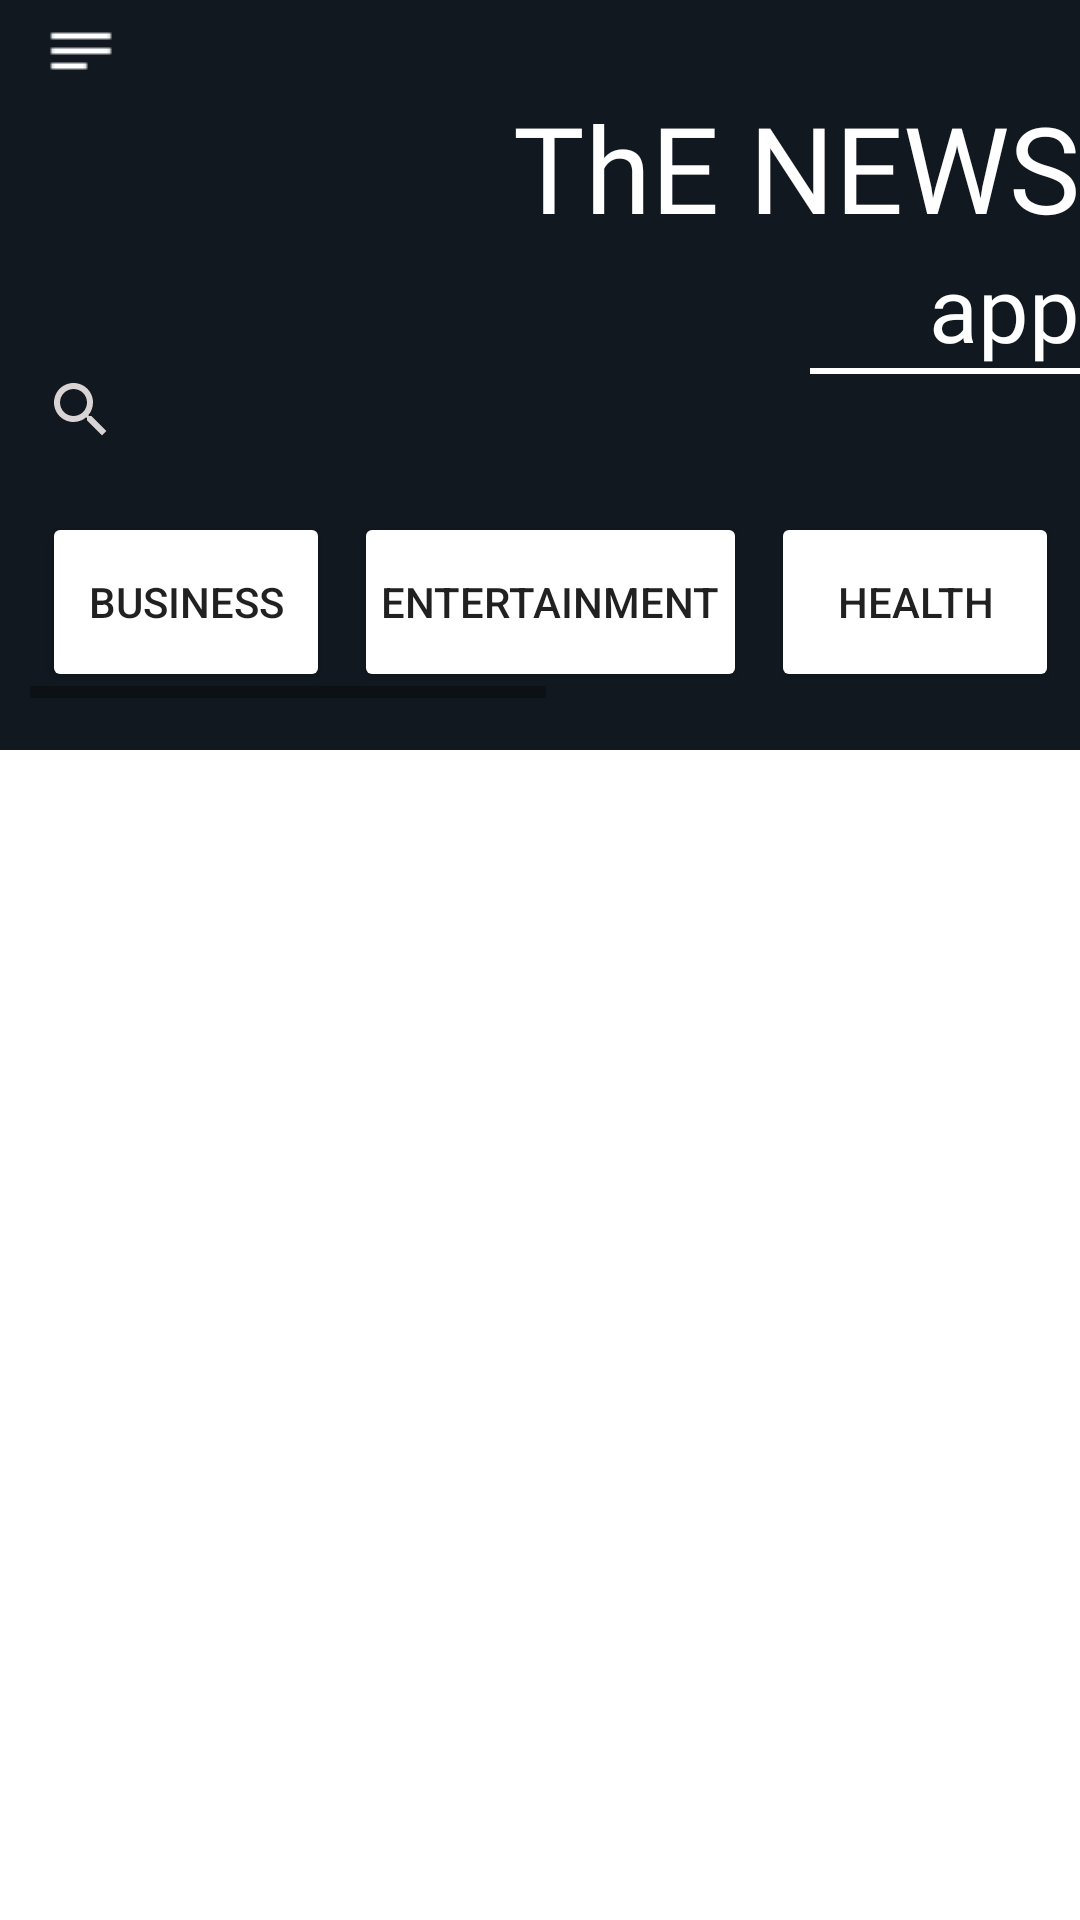

Screen size 1080px×1920px. Icon name, then its center in pixels as point (x, y):
search: point (80, 409)
whitemenu: point (81, 51)
